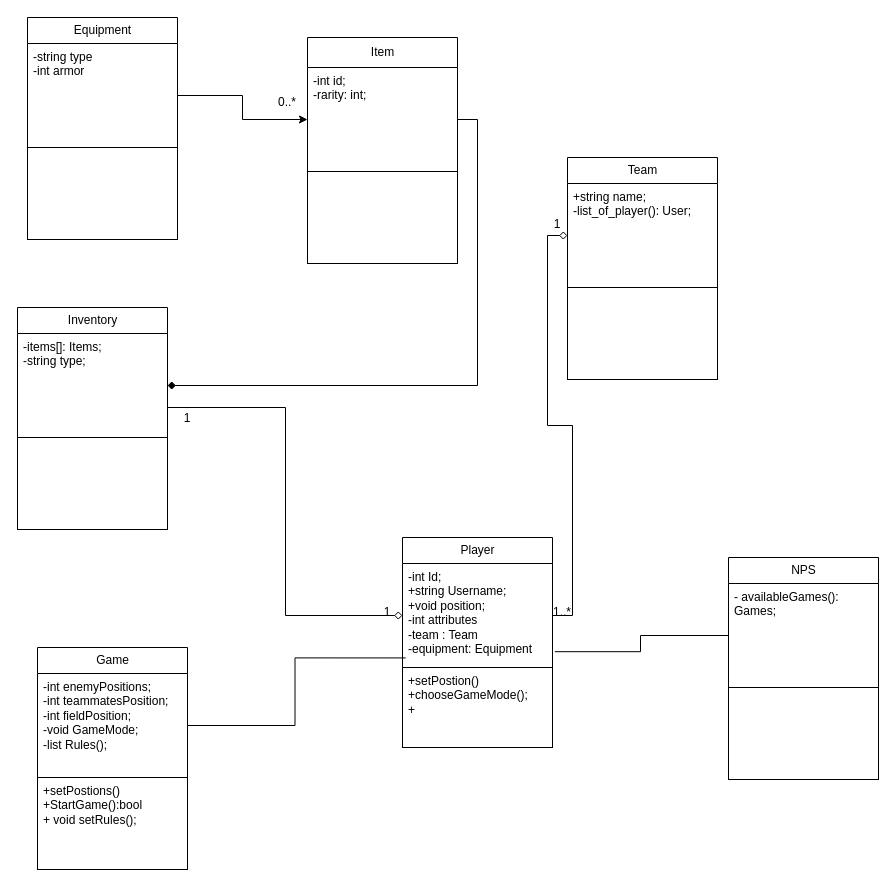
This 896x890 diagram has some shape labels left out. Each missing label, with the centre of its shape:
+bool Change_Equipment(): [102,193]
+GetItem(): Item; +PullItem(): void: [92,483]
+void Enter_party(); +void Exit_party();: [642,333]
+void Talk(); +void Trade();: [803,733]
-bool Equipment(): [382,217]
